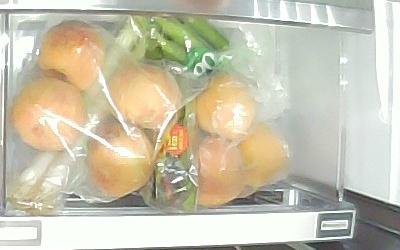peach_vinyl: (13, 77, 88, 150), (89, 122, 155, 197), (38, 20, 105, 89), (108, 62, 176, 117), (195, 76, 251, 136), (241, 126, 290, 186), (199, 137, 242, 205)
